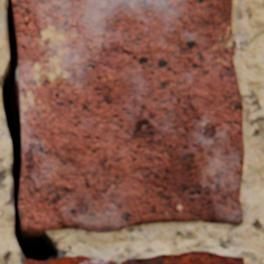brick: (12, 0, 243, 232), (24, 251, 242, 263)
crack: (0, 0, 58, 261)
